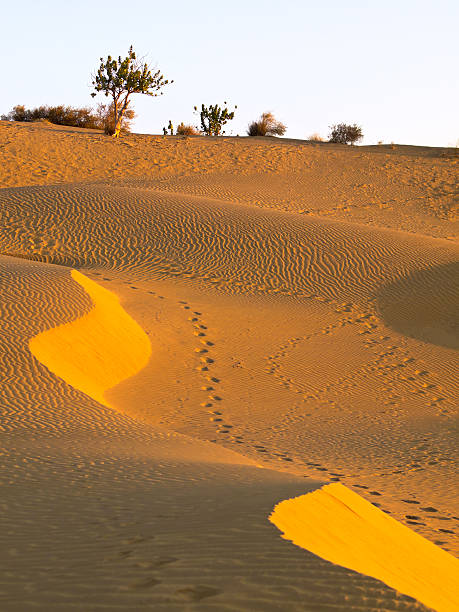animal_footprint: (161, 263, 447, 419), (243, 443, 458, 539), (179, 300, 232, 436), (176, 584, 221, 601)
